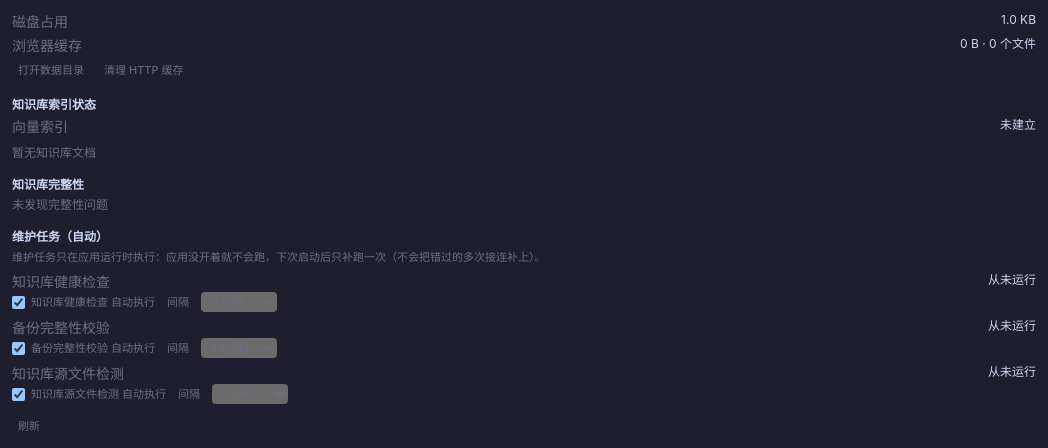
Scenario: ② 改开关／间隔只发这两粒，并以回执为准 › 取消勾选 → 发 {enabled:false}，回执后屏上出「已关闭」
Click the checkbox with test id "dh-task-enabled-kb_health_check": (18, 302) [12,296,25,309]
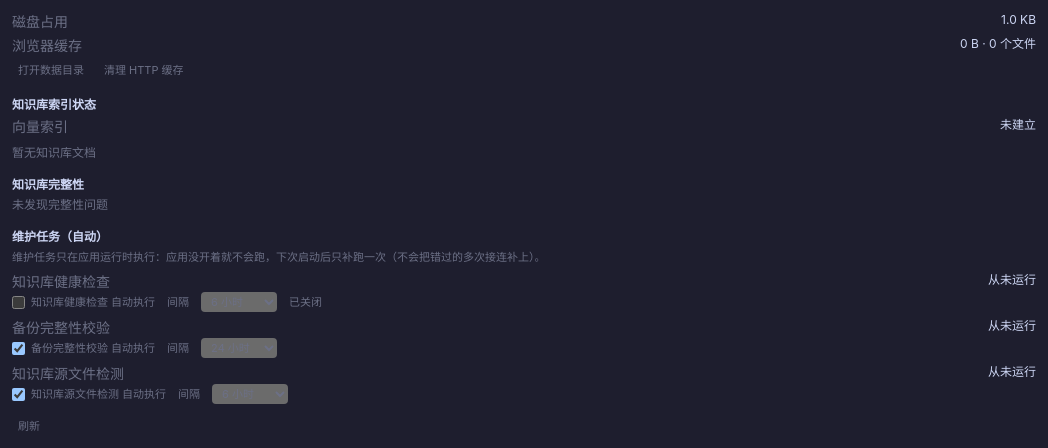
Check: the checkbox with test id "dh-task-enabled-kb_health_check" is not checked, box [12,296,25,309]
Check: the text "已关闭" is shown, box [289,294,322,311]
